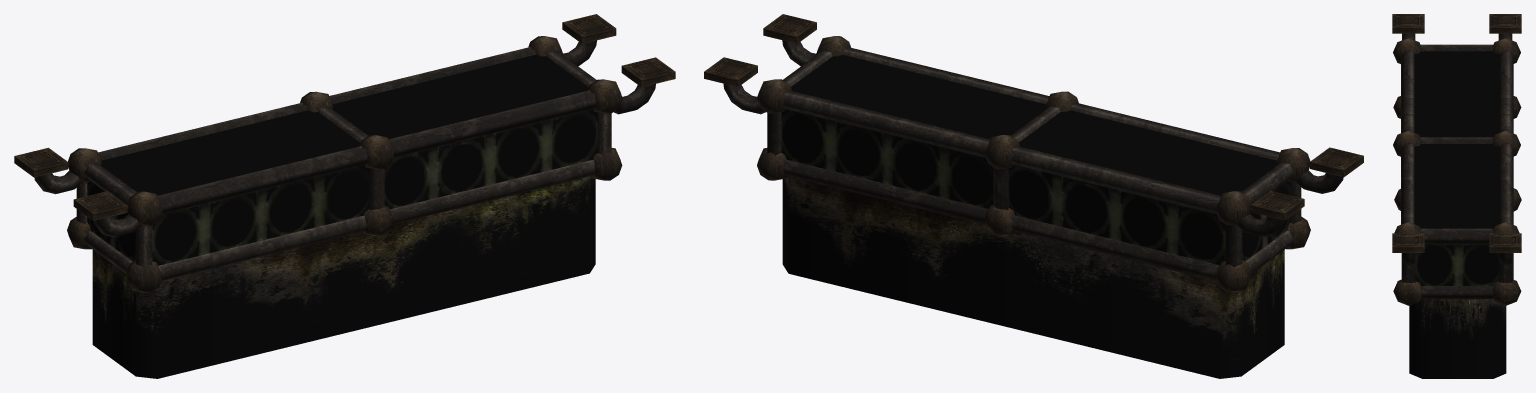
Rendered from catwalk_factory_05m_dirty.DAE.
3 views of the same model, side by side, from view 1: azimuth 30°, elevation 25°; view 2: azimuth 150°, elevation 25°; view 3: azimuth 270°, elevation 25° (orthographic). The views are drawn at different scales.
Parts seen in each view (by area): view 1: Box006, Object131, Object129; view 2: Box006, Object131, Object129; view 3: Object131, Object129, Box006.
Boxes of the visible parts, box(x1,y1,x2,y2) form: Box006: box(92, 176, 595, 378); Object131: box(87, 54, 597, 265); Object129: box(14, 14, 675, 292); Box006: box(782, 176, 1284, 378); Object131: box(781, 55, 1290, 265); Object129: box(704, 14, 1363, 292); Object131: box(1414, 51, 1500, 285); Object129: box(1392, 14, 1521, 305); Box006: box(1409, 299, 1506, 378).
Bounding box in the file's own units: 2.12 × 0.6666 × 0.4997.
